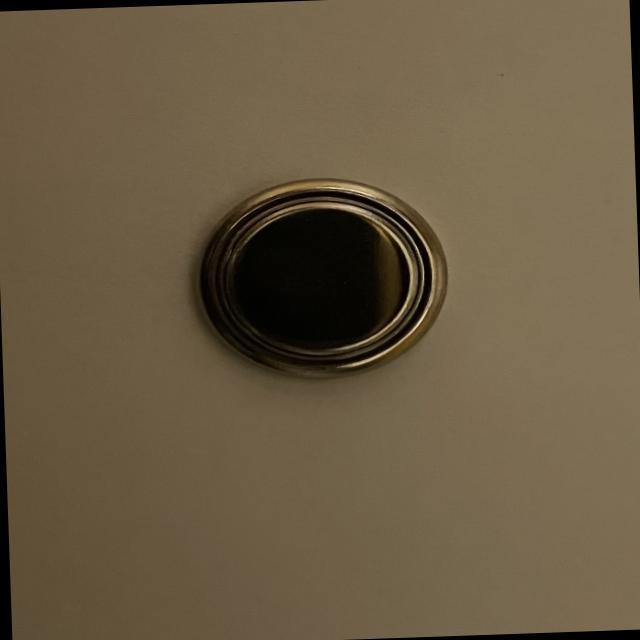COIN: (184, 173, 453, 384)
